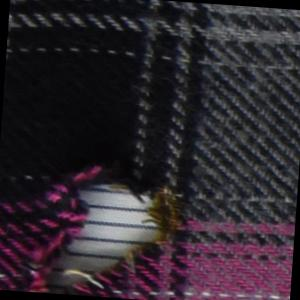Damage: (19, 154, 195, 300)
